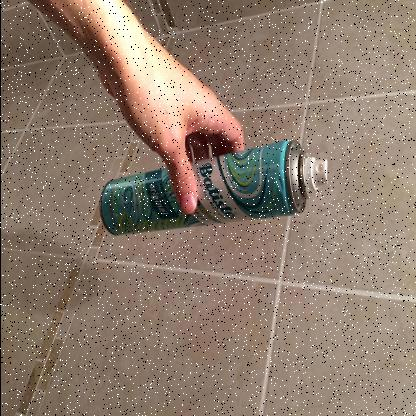metal: (97, 138, 329, 238)
